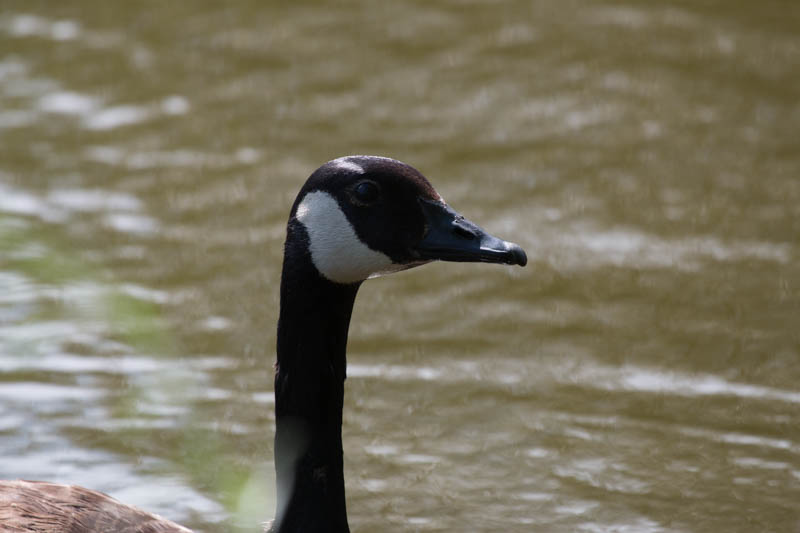goose-head: (285, 155, 527, 286)
